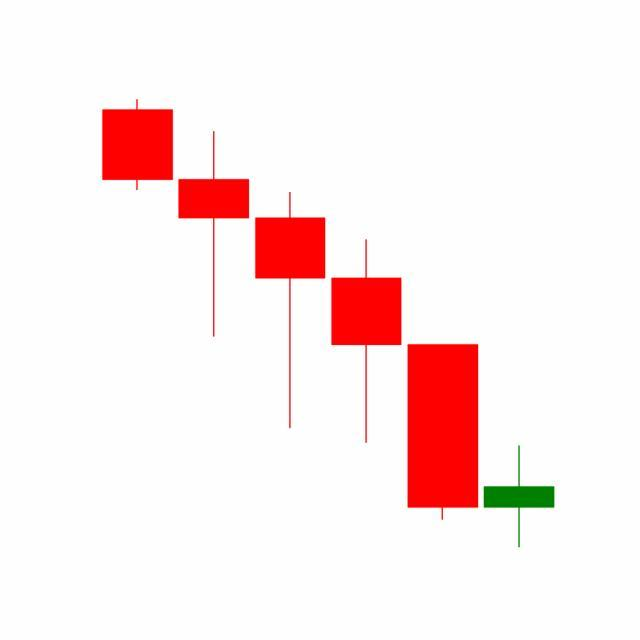Marubozu: (404, 342, 482, 522)
